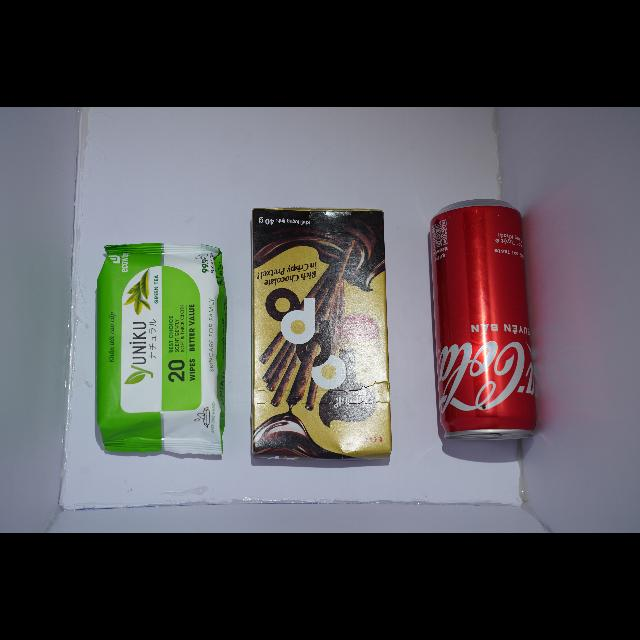banh_toppo_socola: (251, 209, 392, 460)
coca_cola: (431, 201, 536, 440)
khan_giay: (96, 243, 227, 455)
